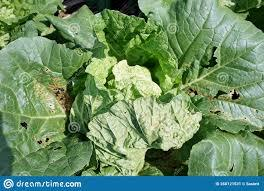Bok-Choy-Diseased: (127, 90, 201, 151), (11, 49, 71, 120), (200, 87, 264, 142)
